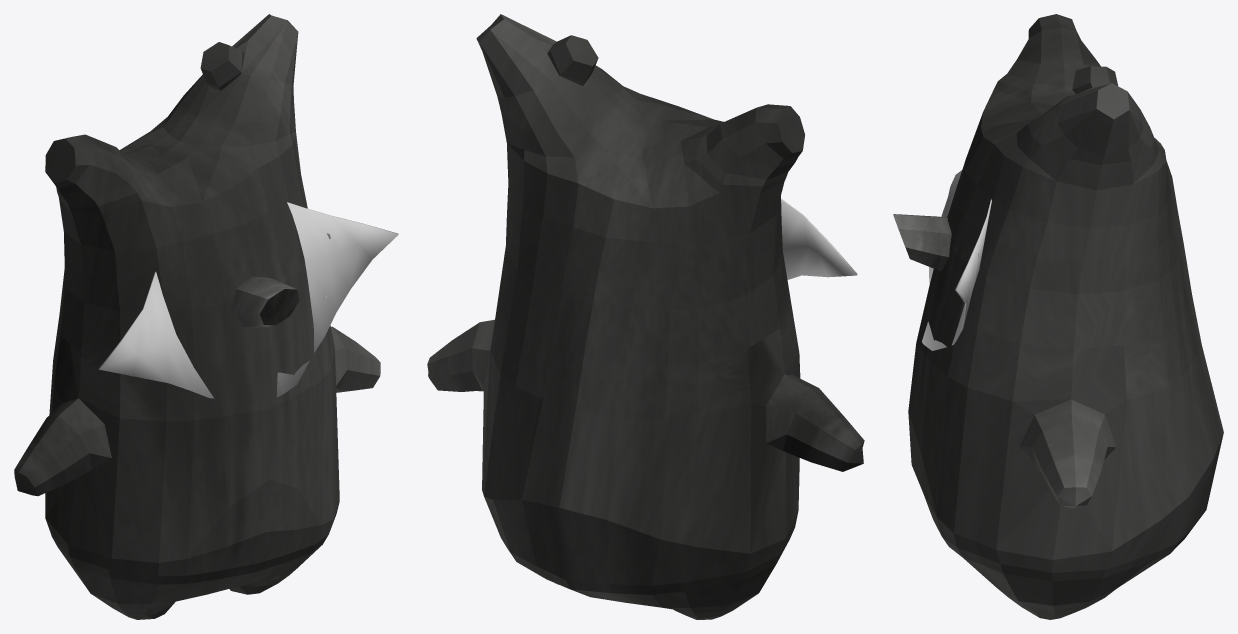
Rendered from frame_0066.obj.
The picture shows the model from 3 angles, left to right: view 1: azimuth 30°, elevation 25°; view 2: azimuth 150°, elevation 25°; view 3: azimuth 270°, elevation 25°; orthographic projection. The views are drawn at different scales.
Visible parts, largest first — view 1: korok, leaf, nose; view 2: korok, leaf; view 3: korok, nose, leaf.
Part boxes in pixels (left/top/right/bottom): korok: left=14, top=14, right=380, bottom=619; leaf: left=99, top=202, right=398, bottom=398; nose: left=231, top=276, right=299, bottom=328; korok: left=427, top=14, right=864, bottom=619; leaf: left=781, top=199, right=857, bottom=279; korok: left=908, top=14, right=1223, bottom=619; nose: left=893, top=214, right=951, bottom=270; leaf: left=922, top=170, right=991, bottom=350.
Size of the model in its own units: 1.69 by 2.28 by 1.22.
